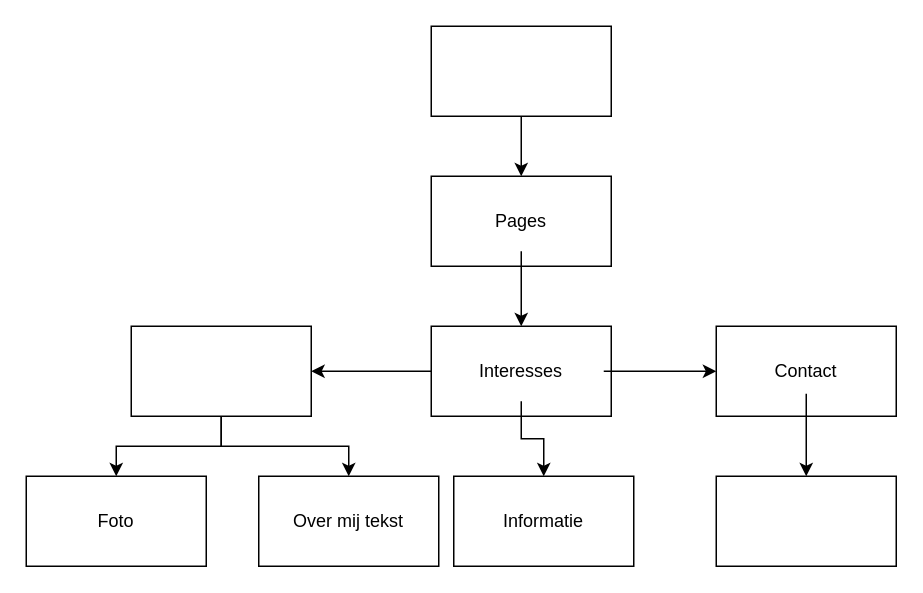
Image size: 923x593. Some labels were removed from this diagram. Each missing label, with the centre of its shape:
"About" goes at (220,370).
"Email, telefoon nummer" goes at (805,520).
"Menu" goes at (520,70).
